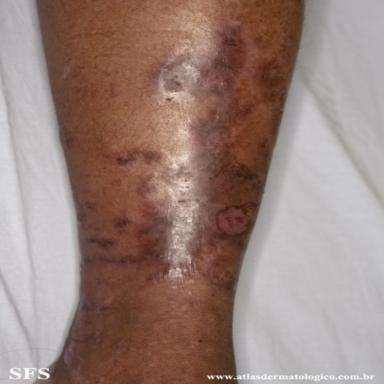Epidermolysis-Bullosa-Pruriginosa: (87, 25, 264, 285), (257, 46, 297, 145)
